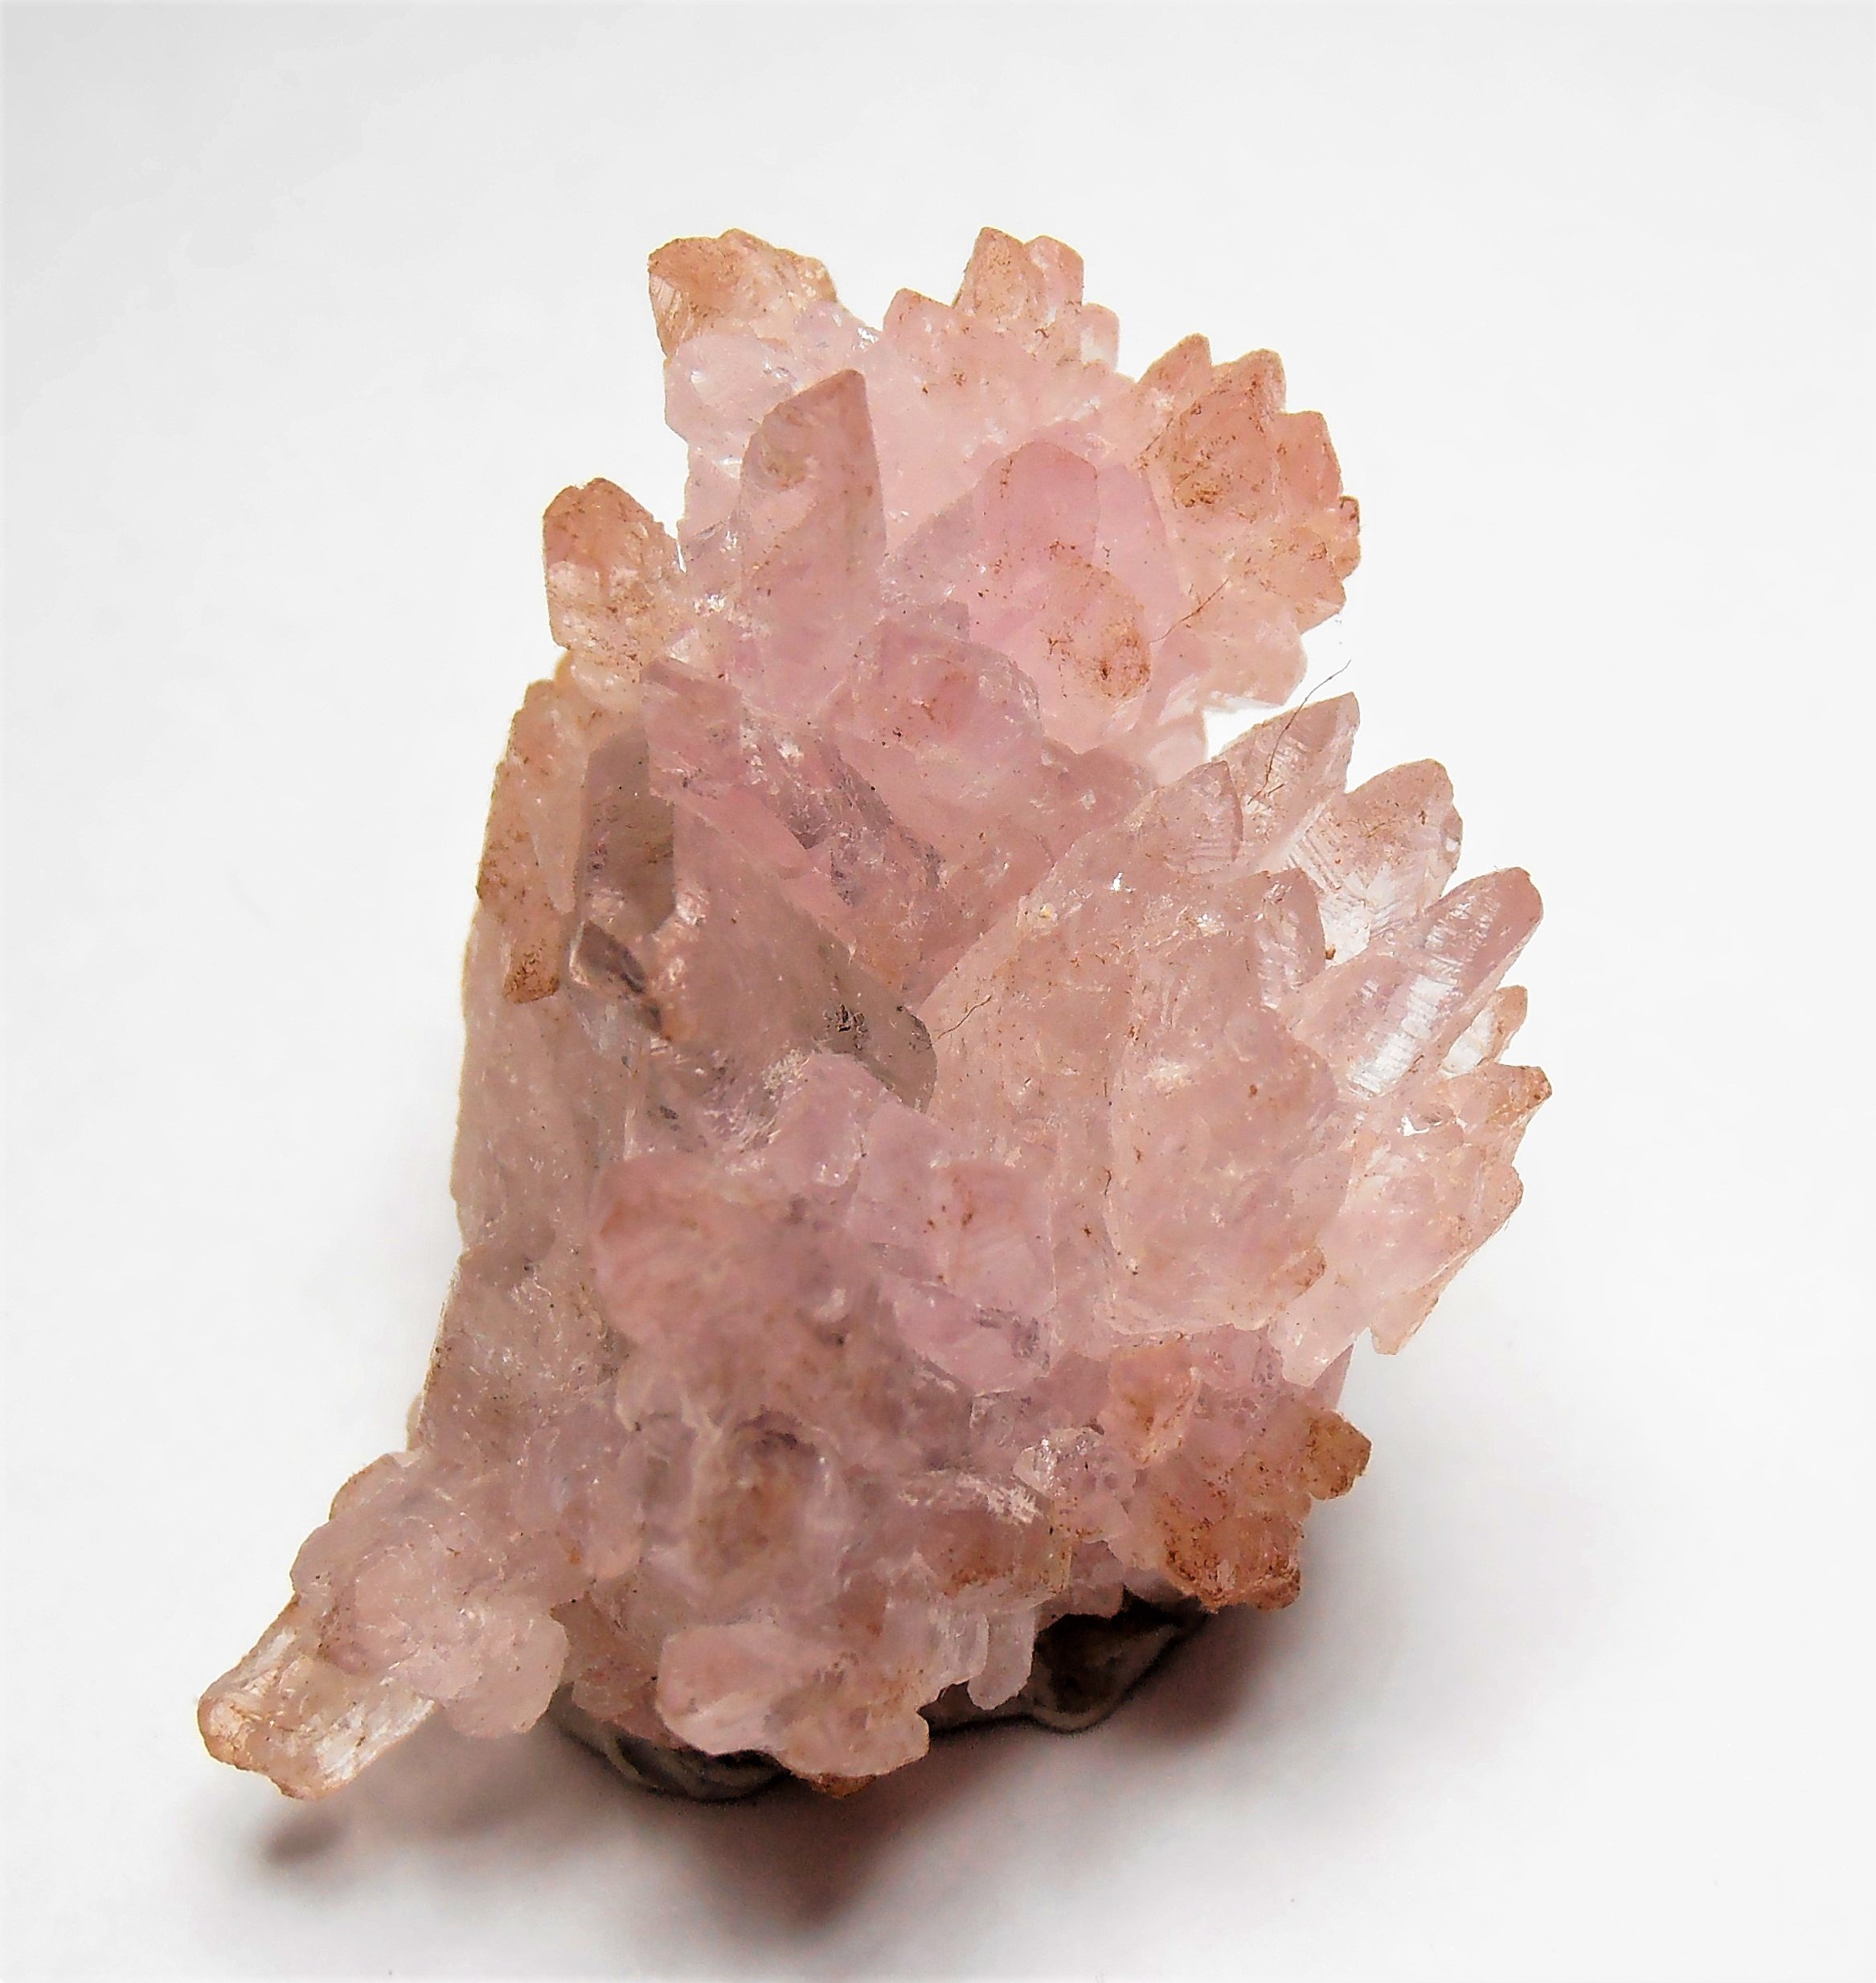Rose_Quartz: (182, 201, 1566, 1814)
